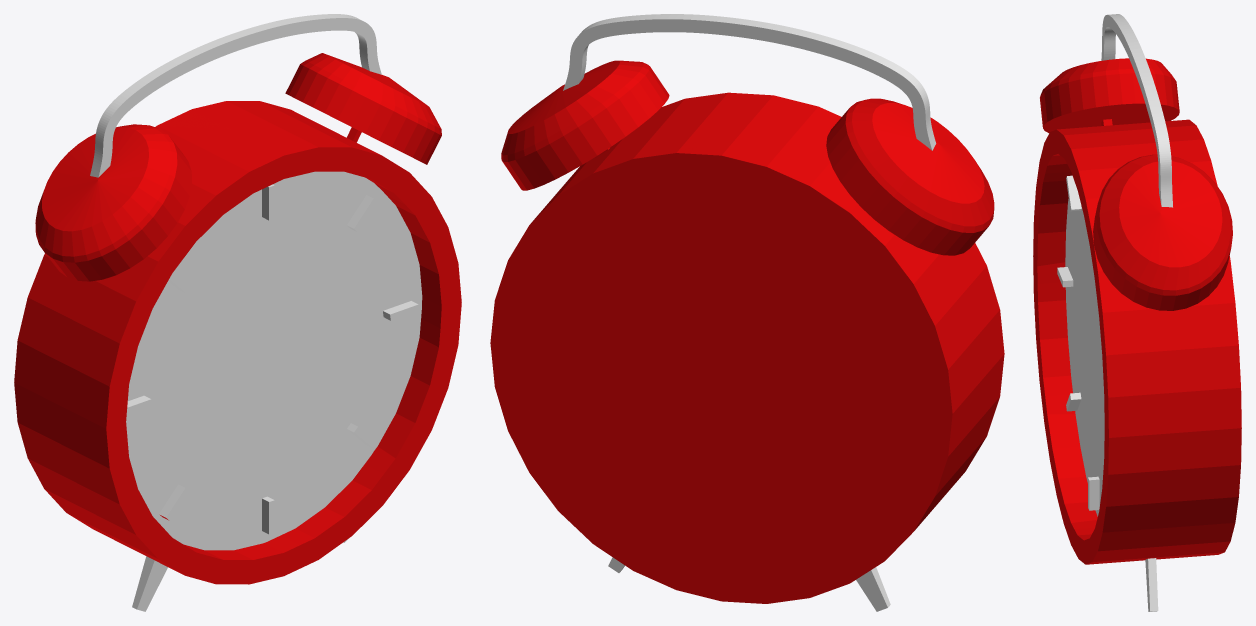
Rendered from ALARM.fbx.
3 views of the same model, side by side, from view 1: azimuth 30°, elevation 25°; view 2: azimuth 150°, elevation 25°; view 3: azimuth 270°, elevation 25° (orthographic). The views are drawn at different scales.
Parts seen in each view (by area): view 1: ALARM; view 2: ALARM; view 3: ALARM.
Boxes of the visible parts, left/top/right/bottom form: ALARM: left=14, top=14, right=461, bottom=611; ALARM: left=490, top=14, right=1004, bottom=611; ALARM: left=1033, top=14, right=1241, bottom=611.
Bounding box in the file's own units: 208 × 257 × 95.56.
